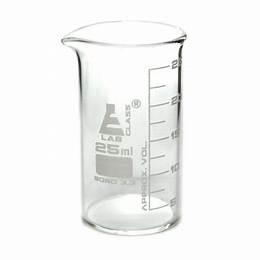Beaker: (53, 18, 188, 240)
